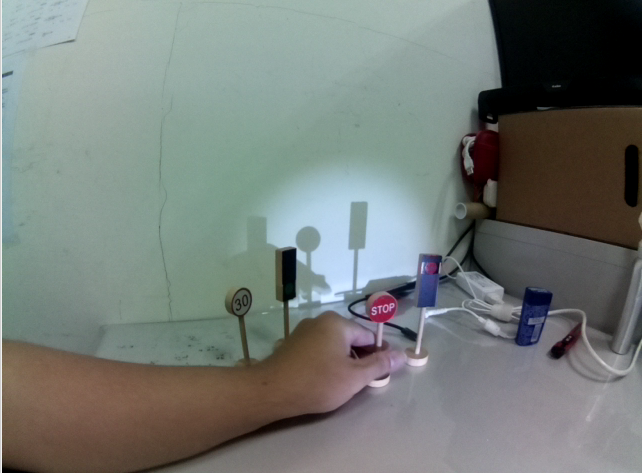Green: (273, 246, 302, 311)
Red: (415, 251, 443, 312)
Speed30: (225, 282, 256, 322)
Stop: (363, 290, 398, 327)
